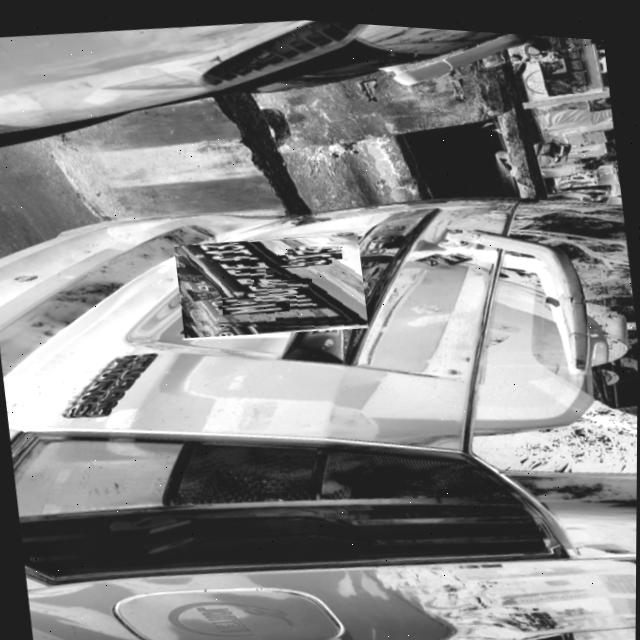0: (242, 281, 301, 297)
1: (283, 242, 338, 261)
3: (292, 239, 338, 254)
5: (293, 233, 343, 247)
7: (251, 272, 310, 290)
9: (274, 248, 328, 265)
C: (262, 262, 317, 280)
E: (264, 255, 325, 274)
IND: (217, 304, 275, 327)
Indian_registered: (180, 237, 366, 324)
M: (221, 294, 289, 315)
P: (235, 288, 295, 305)
